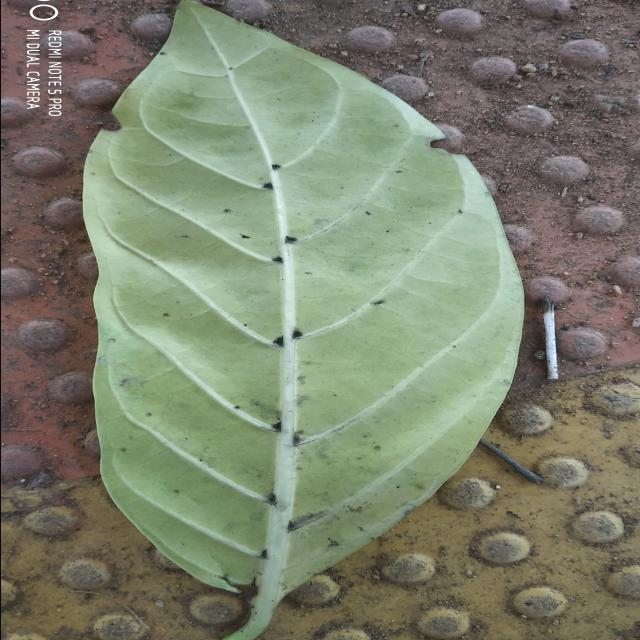leaf: (80, 0, 526, 639)
